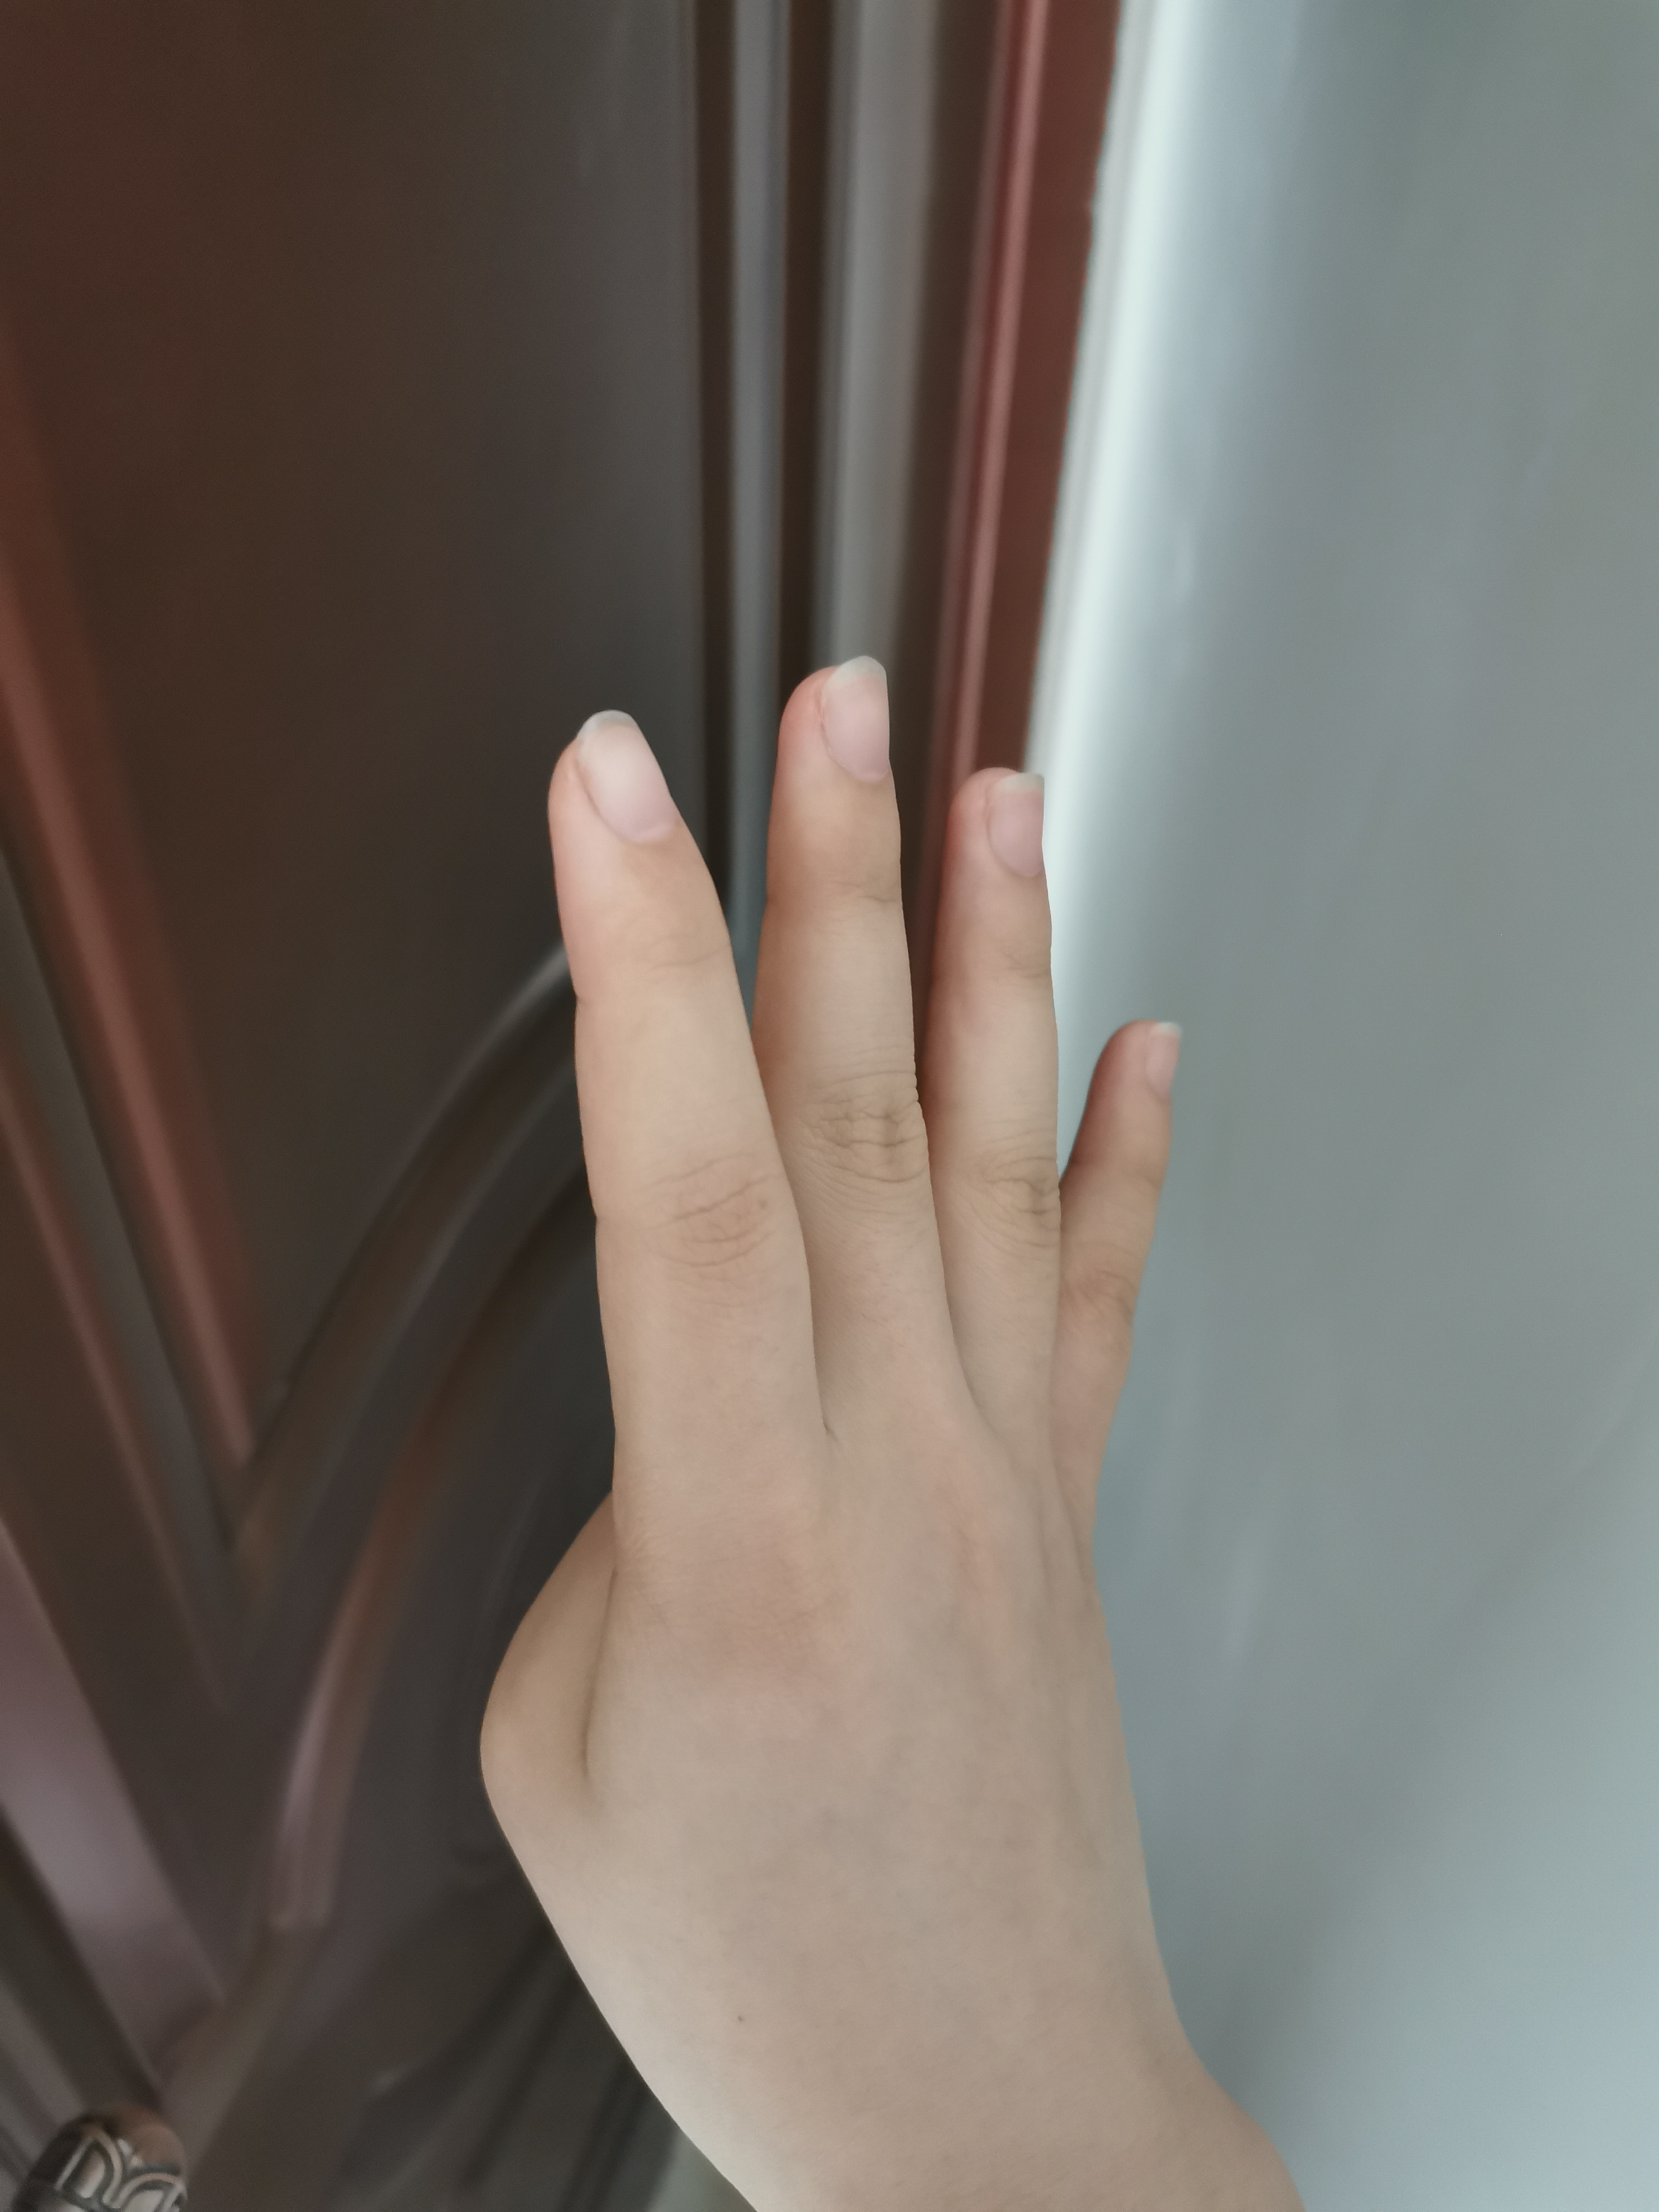right: (465, 653, 1190, 2107)
